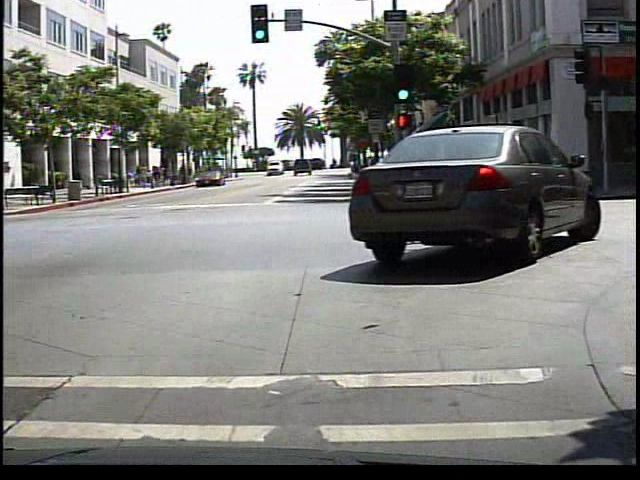person: (68, 161, 86, 192)
